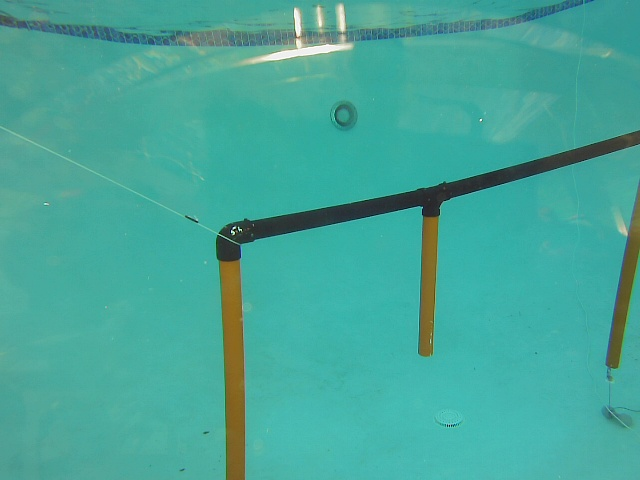Gate: (216, 252, 248, 480), (602, 176, 639, 372), (413, 209, 440, 362)
